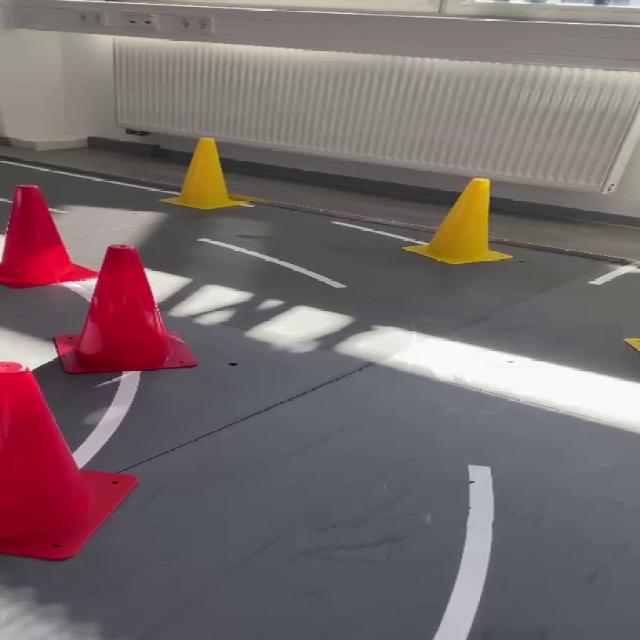Cone-red: (0, 186, 194, 372), (0, 362, 138, 559)
Cones-yellow: (401, 178, 512, 265), (161, 138, 258, 209), (625, 338, 639, 352)
